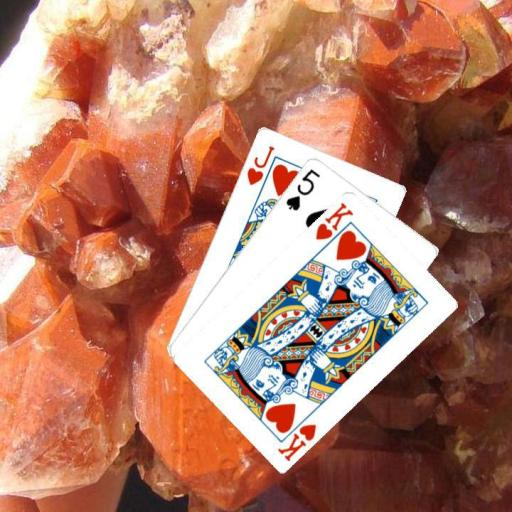5S: (283, 165, 322, 212)
JH: (243, 143, 276, 187)
KH: (312, 198, 355, 242), (274, 420, 318, 462)
